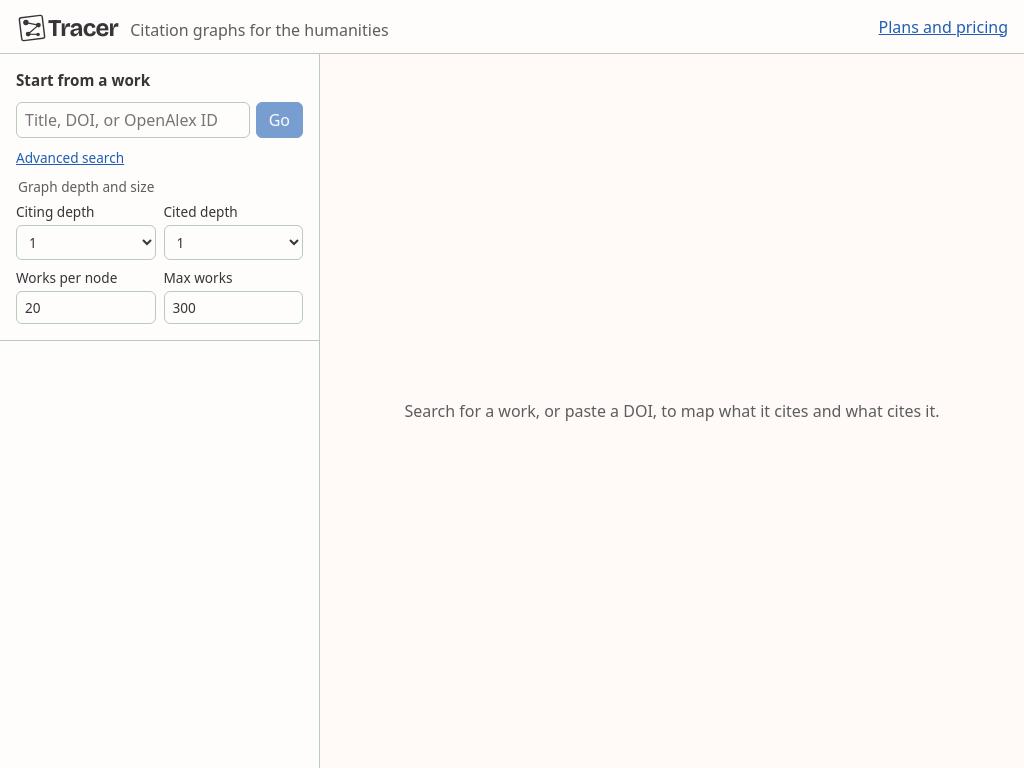
Scenario: App › closes the no-results message
This screenshot has width=1024, height=768.
Type "nothing" into the search field labelled "Title, DOI, or OpenAlex ID" at [133, 120], box x1=16 y1=102 x2=250 y2=138
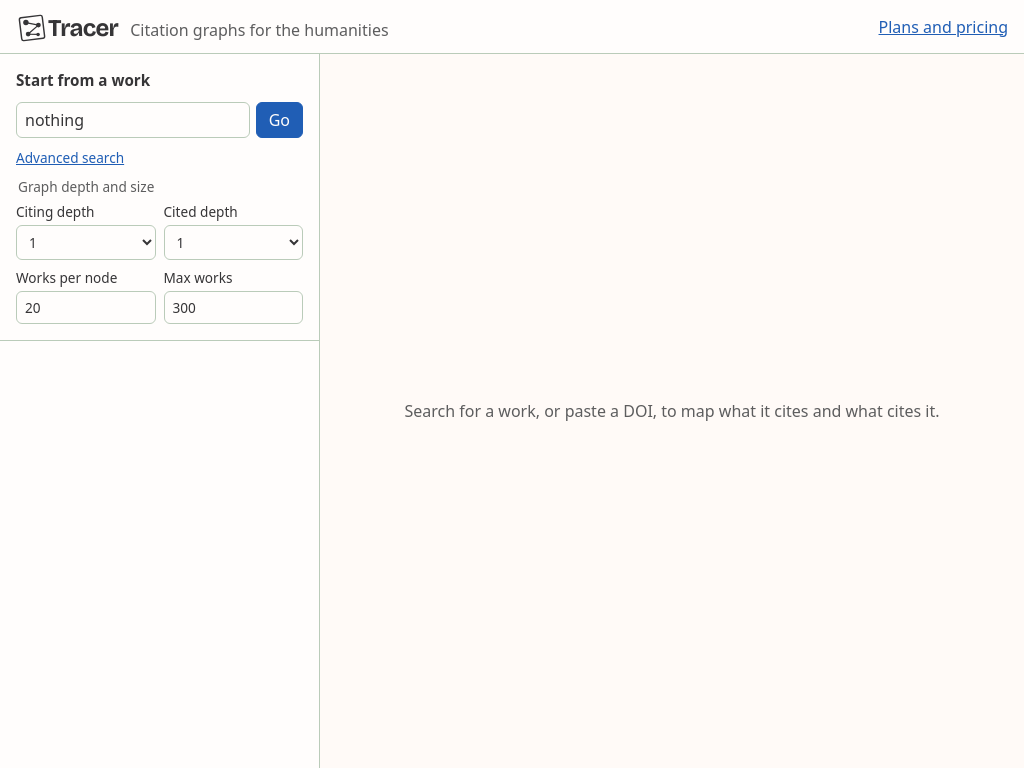
Click the button "Go" at [279, 120], box x1=256 y1=102 x2=303 y2=138
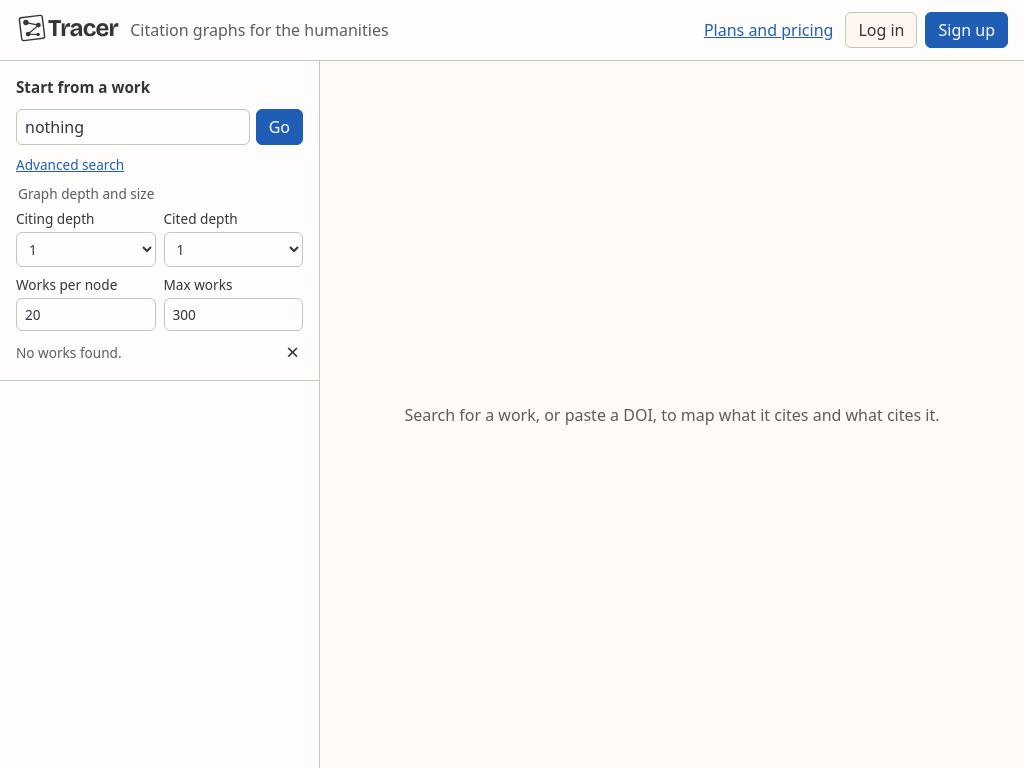
Expected: the text "No works found." is shown, x1=16 y1=343 x2=122 y2=362
Click the button named "Close search results" at [293, 352], box x1=282 y1=341 x2=303 y2=364
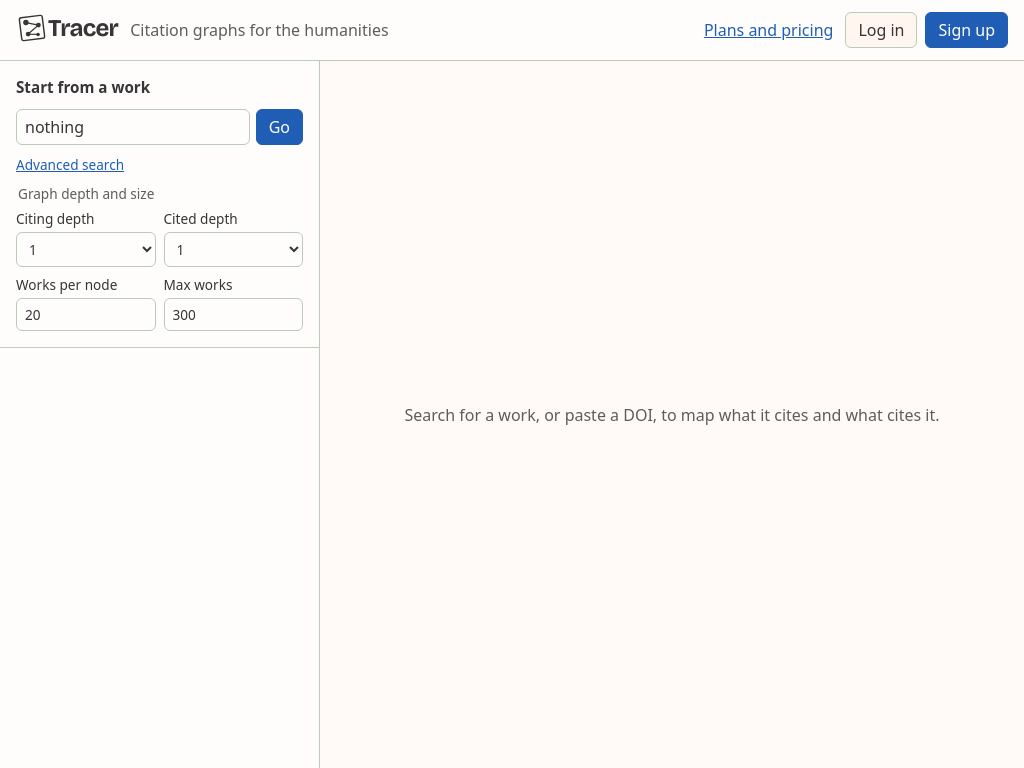
Expected: the text "No works found." is gone
